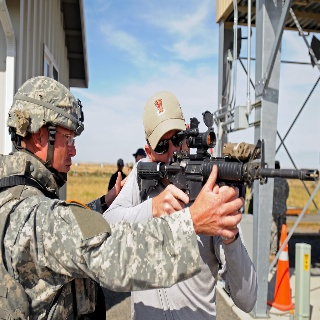rifle: (137, 112, 319, 207)
